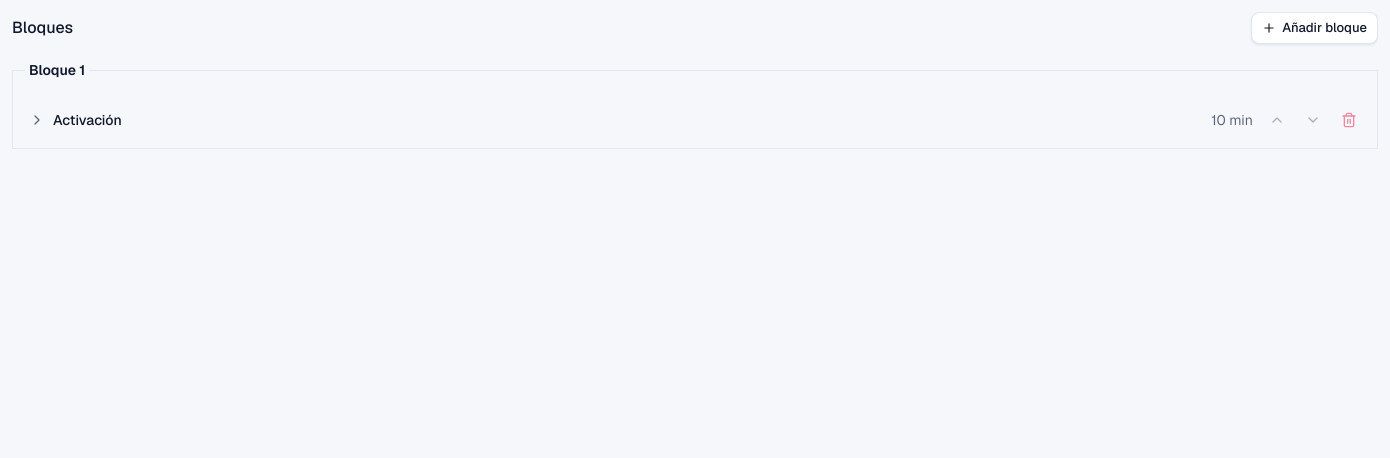
Test case: SesionBloquesEditor › indica el origen de cada documento en el selector
Click the button with aria-label "expandir bloque 1". click: (87, 120)
box: [25,106,1257,134]
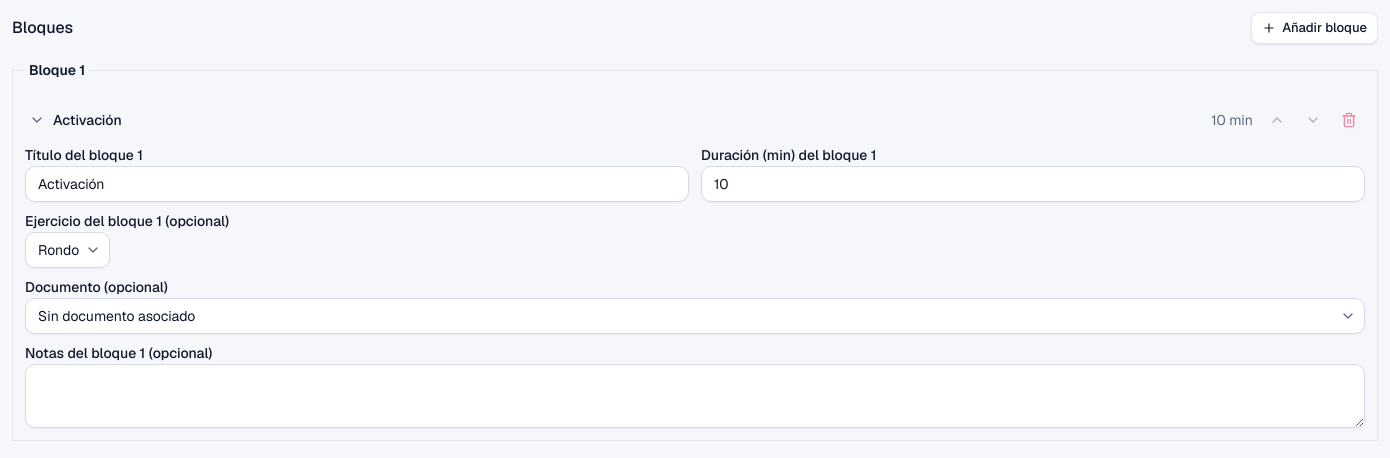
Click the dropdown named "seleccionar documento del bloque 1". click: (117, 316)
box: [25,298,1365,334]
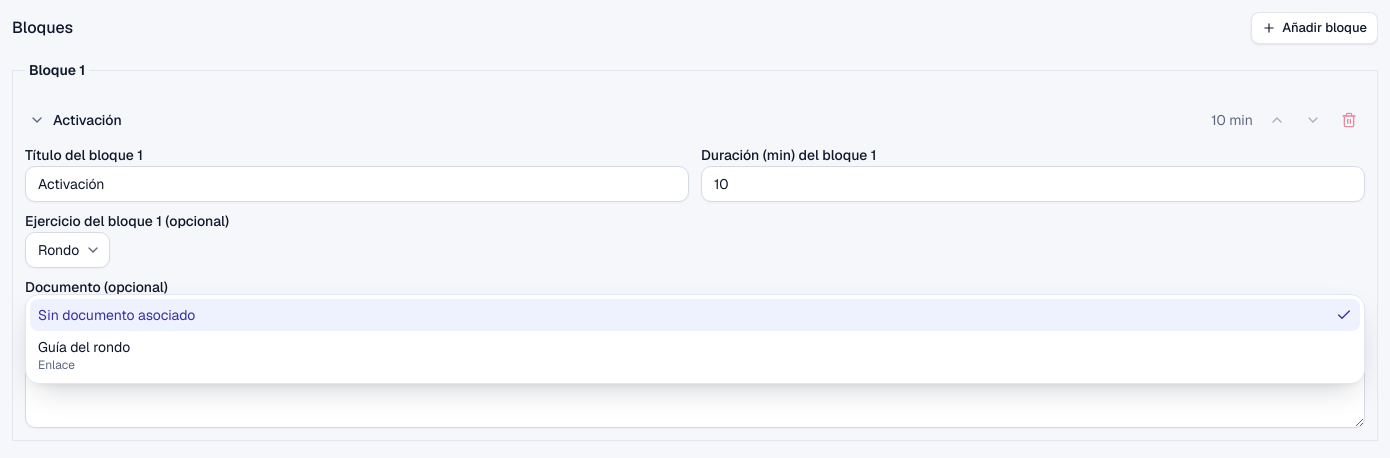
Check: the option "Guía del rondo Enlace" is shown, box [38,338,130,373]
